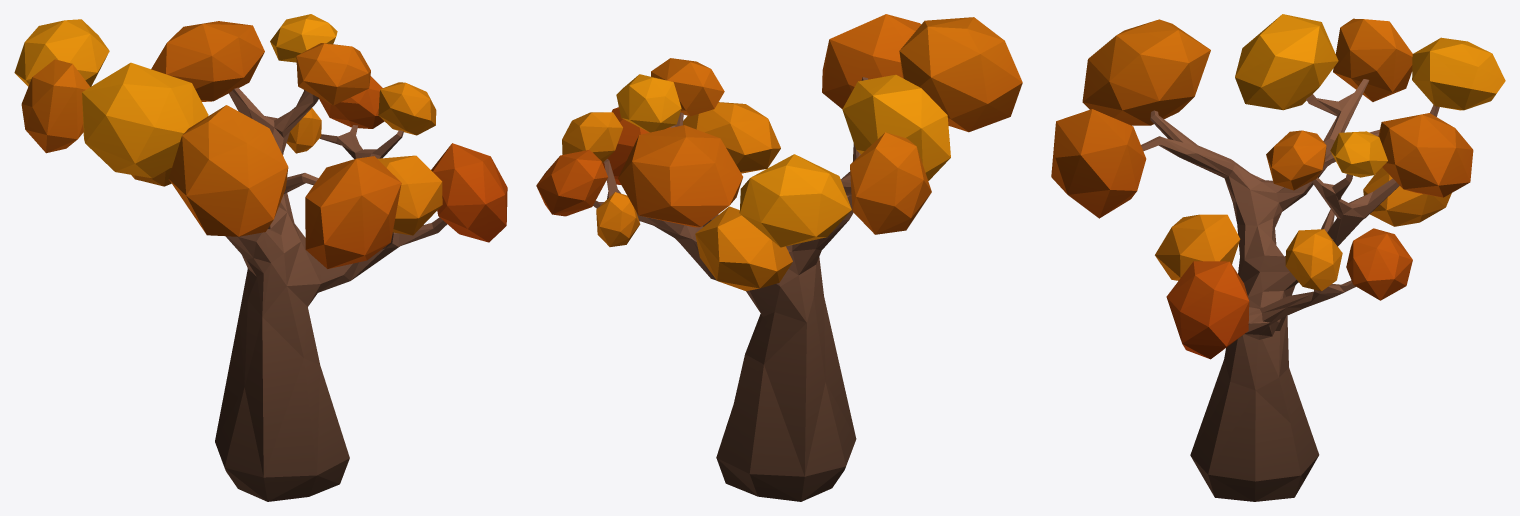
File: autumn tree 8.fbx
3 renders of one model, left to right at view 1: azimuth 30°, elevation 25°; view 2: azimuth 150°, elevation 25°; view 3: azimuth 270°, elevation 25°, orthographic. The views are drawn at different scales.
Parts seen in each view (by area): view 1: autumn tree 8; view 2: autumn tree 8; view 3: autumn tree 8.
Part boxes in pixels (box(x1,y1,x2,y2)): autumn tree 8: box(14, 14, 507, 501); autumn tree 8: box(536, 14, 1022, 501); autumn tree 8: box(1051, 14, 1505, 501).
Bounding box in the file's own units: 786 × 816 × 827.
